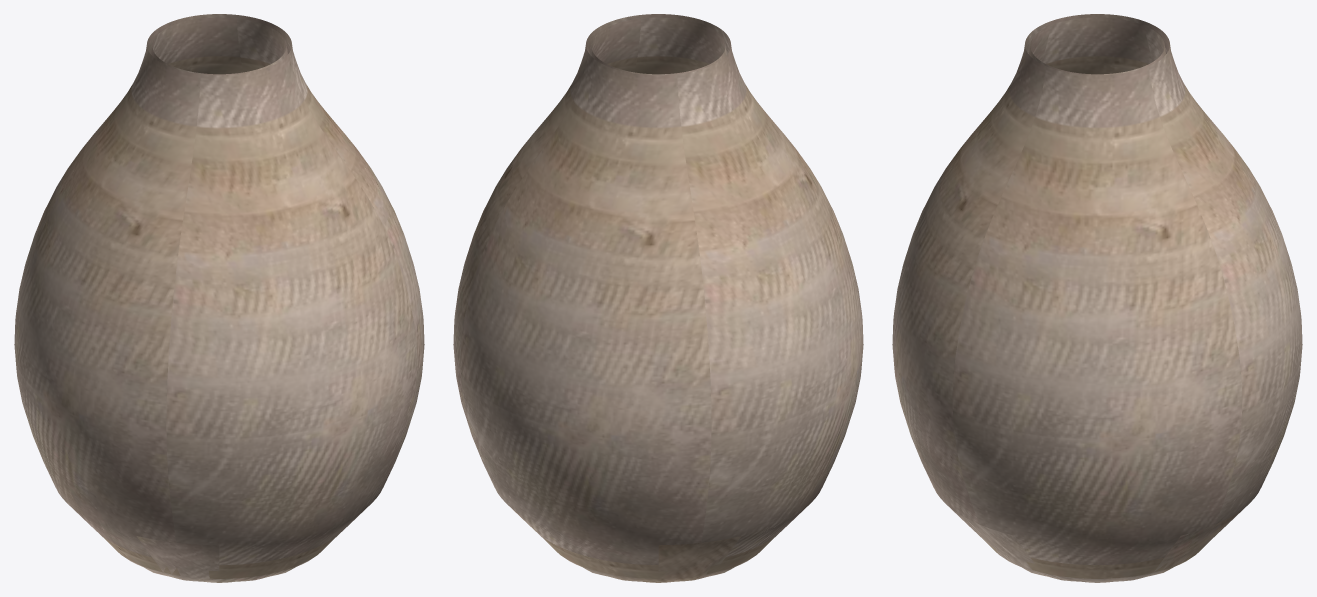
Rendered from 汉代陶瓷罐1.FBX.
The picture shows the model from 3 angles, left to right: view 1: azimuth 30°, elevation 25°; view 2: azimuth 150°, elevation 25°; view 3: azimuth 270°, elevation 25°; orthographic projection.
Parts seen in each view (by area): view 1: Cylinder001; view 2: Cylinder001; view 3: Cylinder001.
Boxes of the visible parts, x1,y1,x2,y2 form: Cylinder001: (14,14,424,582); Cylinder001: (453,14,863,582); Cylinder001: (892,14,1302,582).
Size of the model in its own units: 68.02 by 93.28 by 68.01.
1 material, 1 textured.
